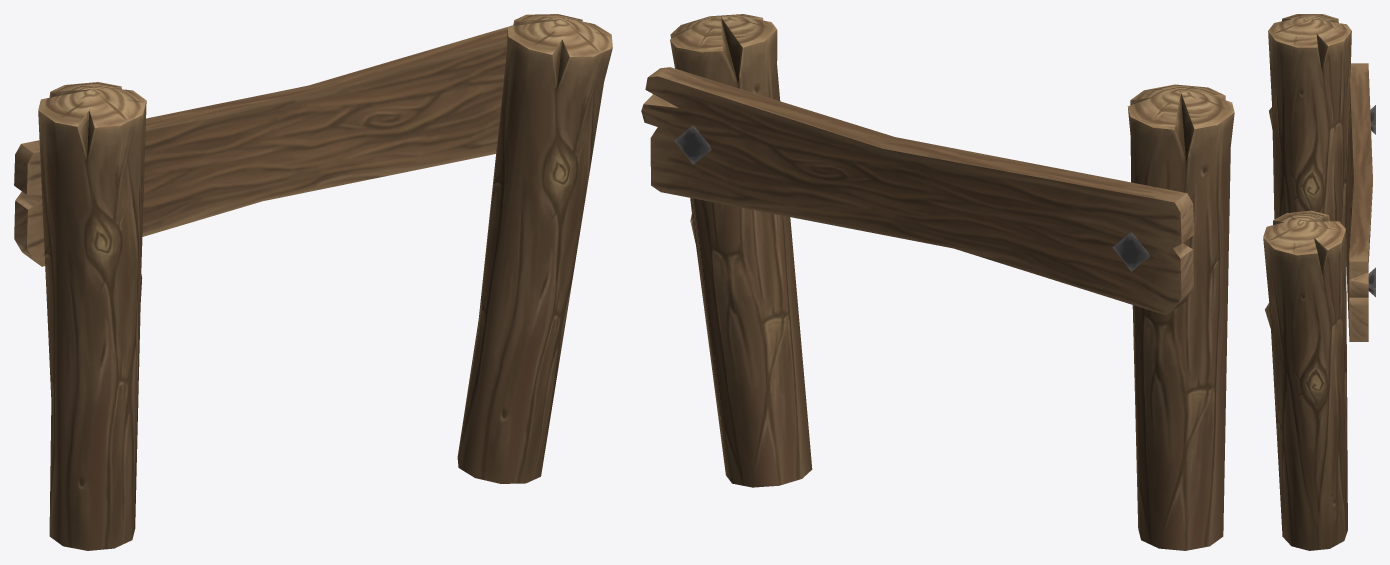
File: Fence1_1.fbx
3 renders of one model, left to right at view 1: azimuth 30°, elevation 25°; view 2: azimuth 150°, elevation 25°; view 3: azimuth 270°, elevation 25°, orthographic. The views are drawn at different scales.
Parts seen in each view (by area): view 1: polySurface120; view 2: polySurface120; view 3: polySurface120.
Boxes of the visible parts, x1,y1,x2,y2 form: polySurface120: (14, 14, 612, 550); polySurface120: (641, 14, 1234, 550); polySurface120: (1263, 14, 1375, 550).
Bounding box in the file's own units: 87.69 × 73.08 × 20.34.
1 material, 1 textured.
